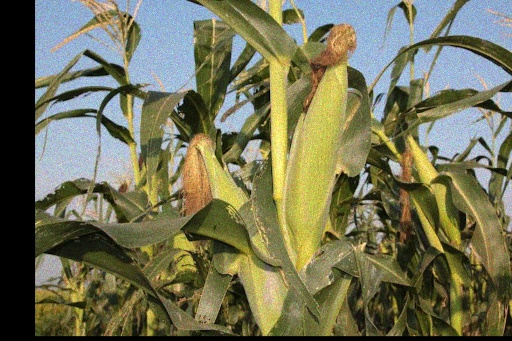corn_plant: (179, 131, 288, 333), (283, 19, 360, 266)
